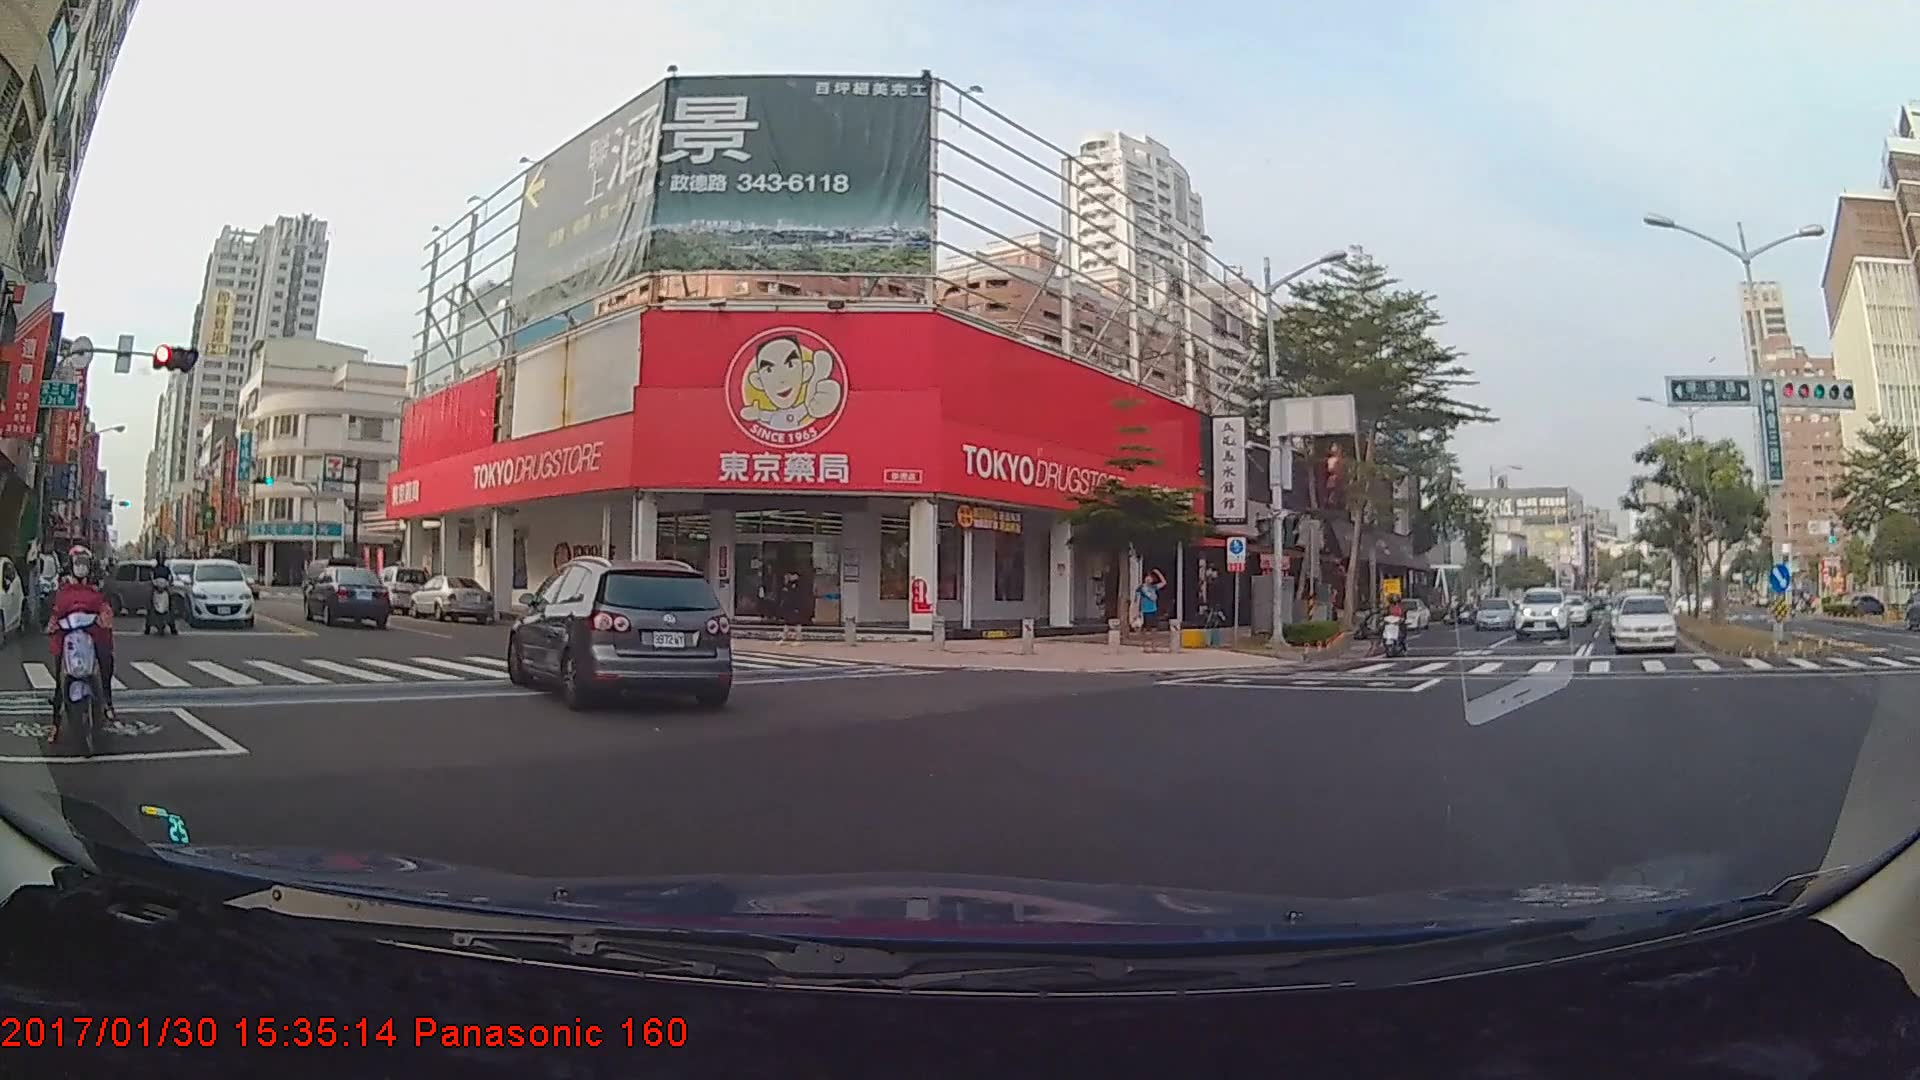pedestrian: (778, 565, 817, 654), (1133, 567, 1168, 652)
rider: (42, 543, 126, 765), (143, 551, 183, 641), (54, 544, 90, 627), (1378, 588, 1416, 654)
vehicle: (511, 556, 732, 712), (306, 562, 390, 628), (102, 558, 193, 614), (181, 556, 253, 627), (407, 571, 494, 620), (1611, 592, 1676, 652), (1513, 585, 1570, 637), (1472, 596, 1515, 629), (1550, 594, 1586, 625)
